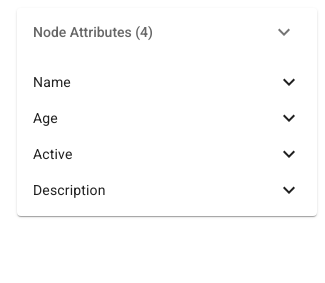
Test: AttributeList Component › toggles attribute details on click
Click the button "Name" at (52, 82), box [17,64,317,100]
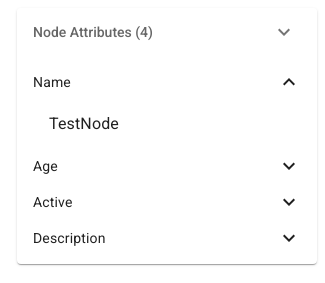
Now the text "TestNode" is shown, box [49,114,119,133]
Click the button "Name" at (52, 82), box [17,64,317,100]
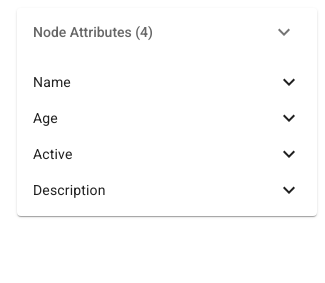
Now the button "TestNode" is gone
